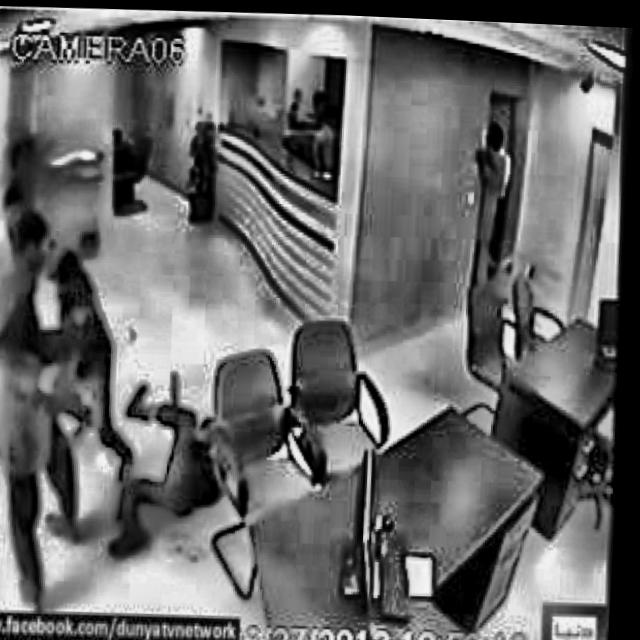robbery: (0, 194, 154, 615)
